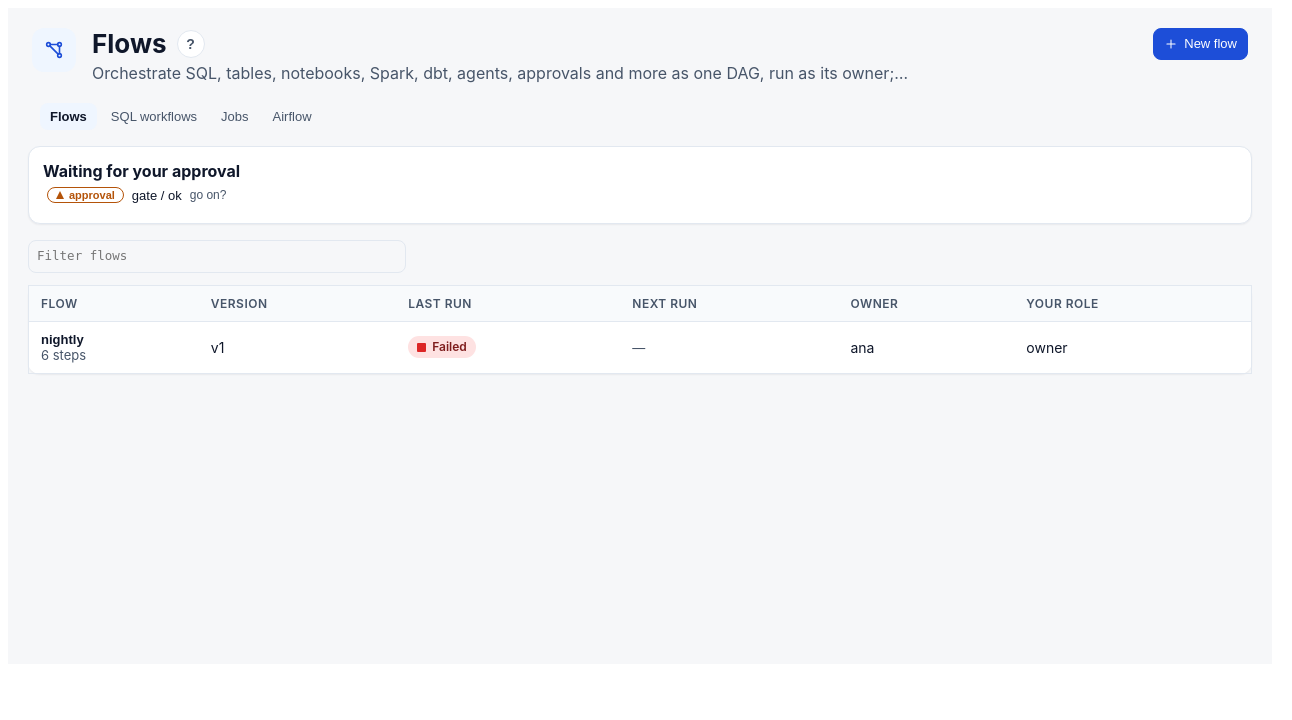
it: the Flows page › lists flows and makes a draft from a template
Expected: the button "nightly" is shown, top-left (41, 332), bottom-right (187, 347)
Expected: the text "Failed" is shown, top-left (432, 339), bottom-right (467, 355)
Click the button "New flow" at (1201, 44), box top-left (1153, 28), bottom-right (1248, 60)
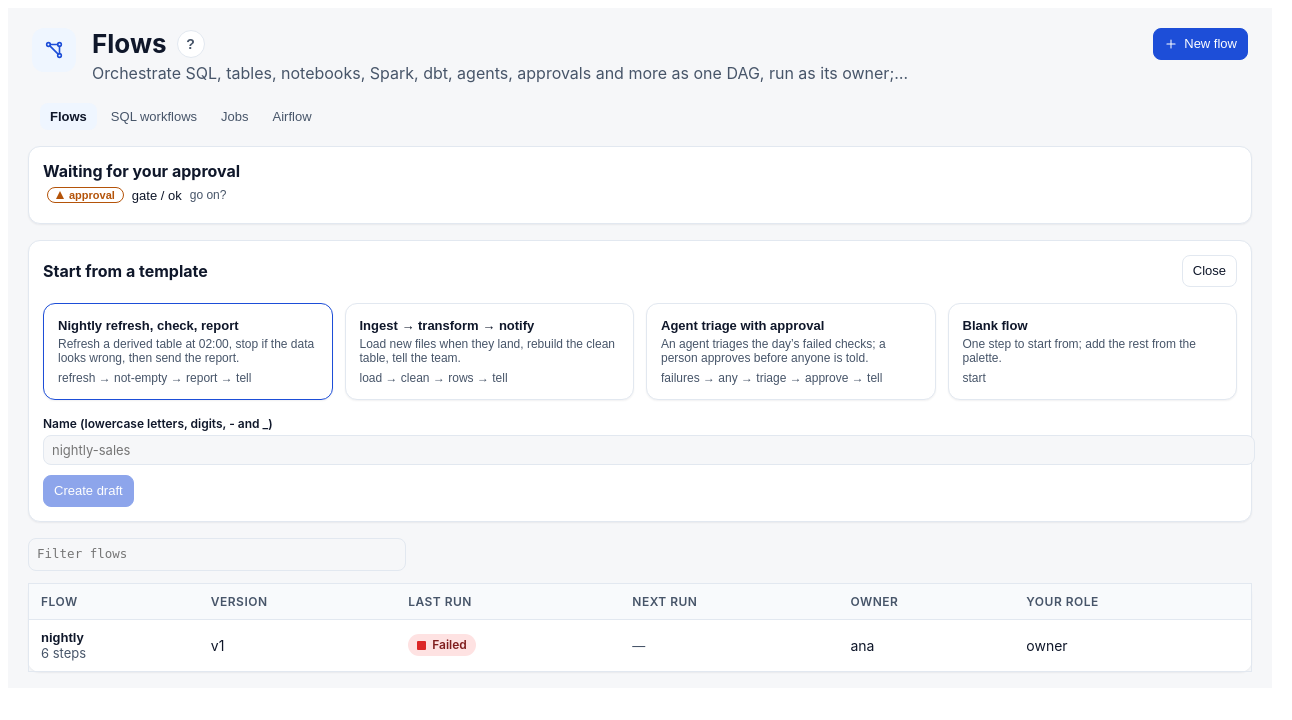
Click the radio button labelled "Agent triage with approval" at (791, 352), box top-left (646, 303), bottom-right (936, 400)
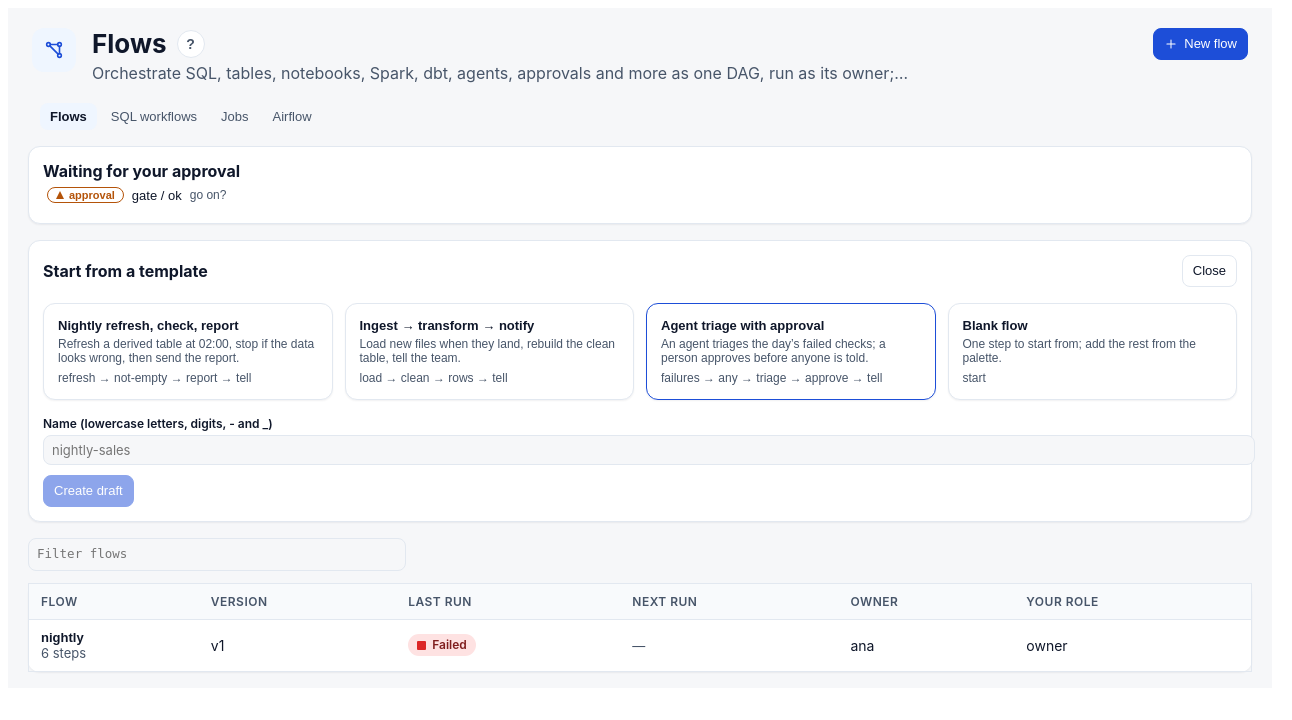
Type "my-flow" into the field labelled "Name (lowercase letters, digits, - and _)" at (649, 450), box top-left (43, 435), bottom-right (1255, 465)
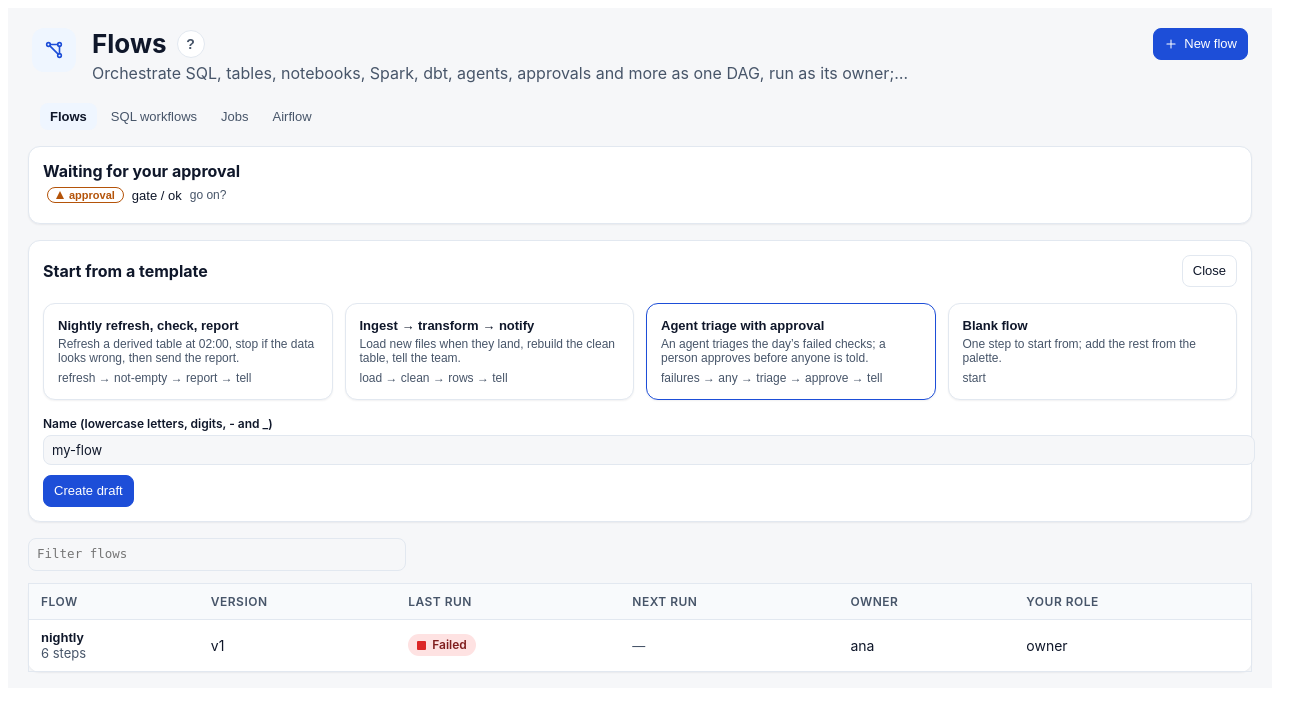
Click the button "Create draft" at (88, 491), box top-left (43, 475), bottom-right (134, 507)
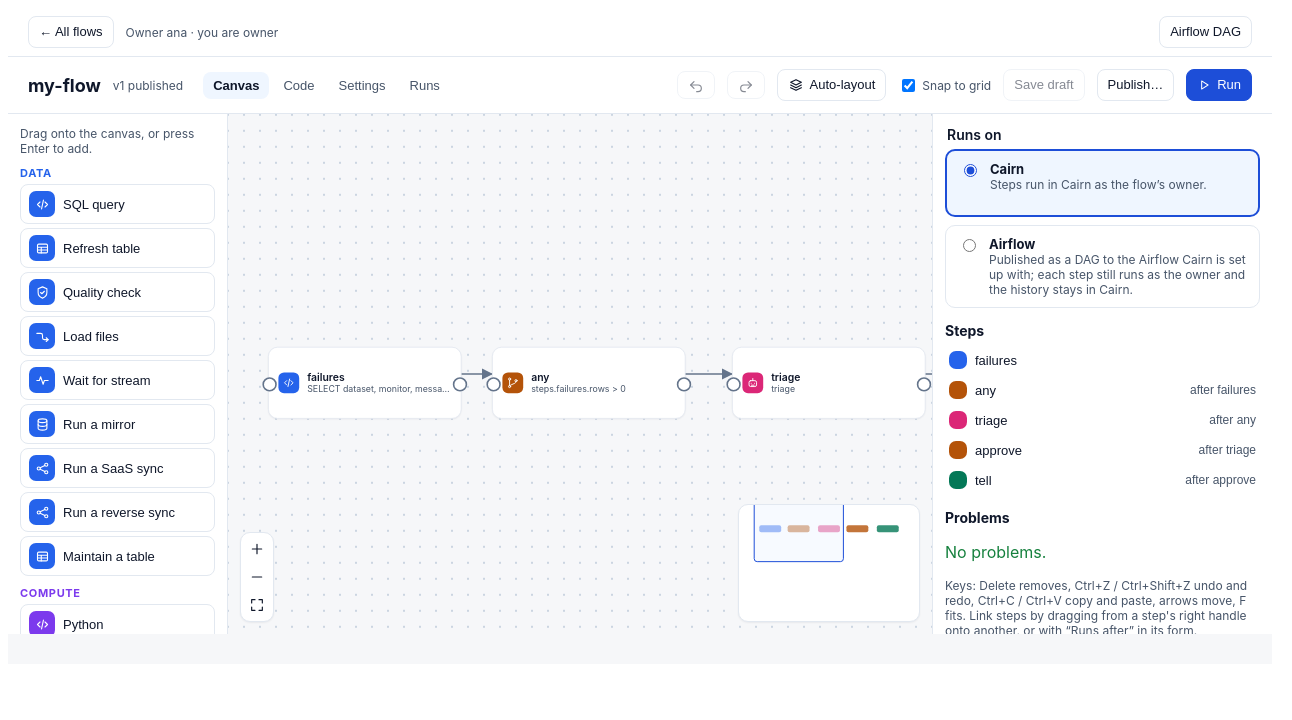
Result: the heading "my-flow" is shown at top-left (28, 74), bottom-right (101, 96)
